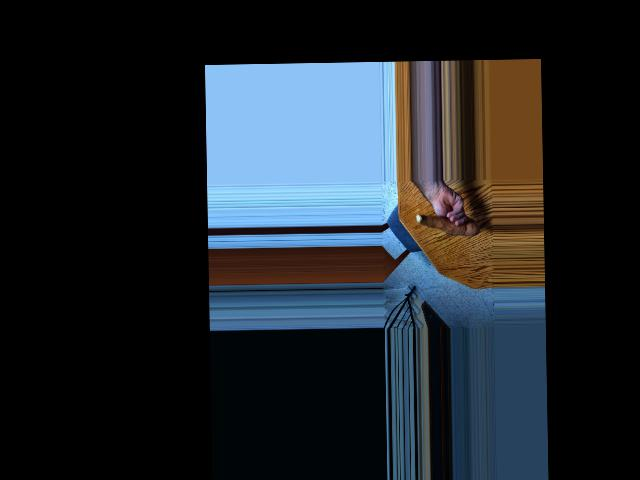sweet_potato: (418, 210, 477, 239)
